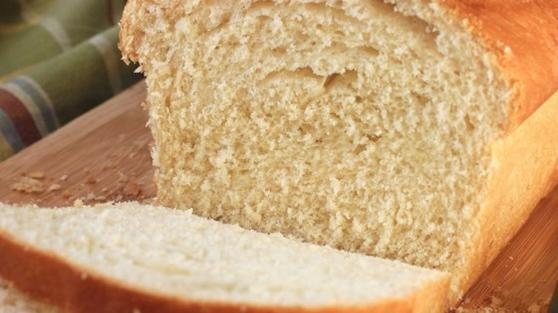white_bread: (129, 1, 558, 293)
